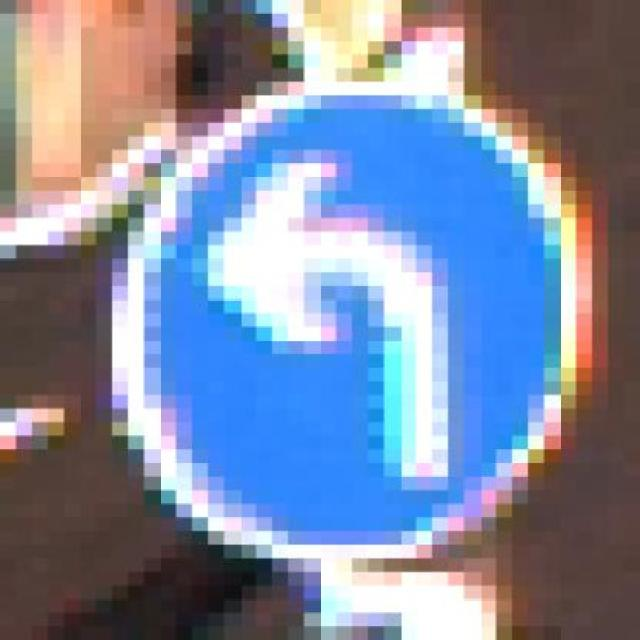Turn left ahead: (96, 82, 609, 586)
